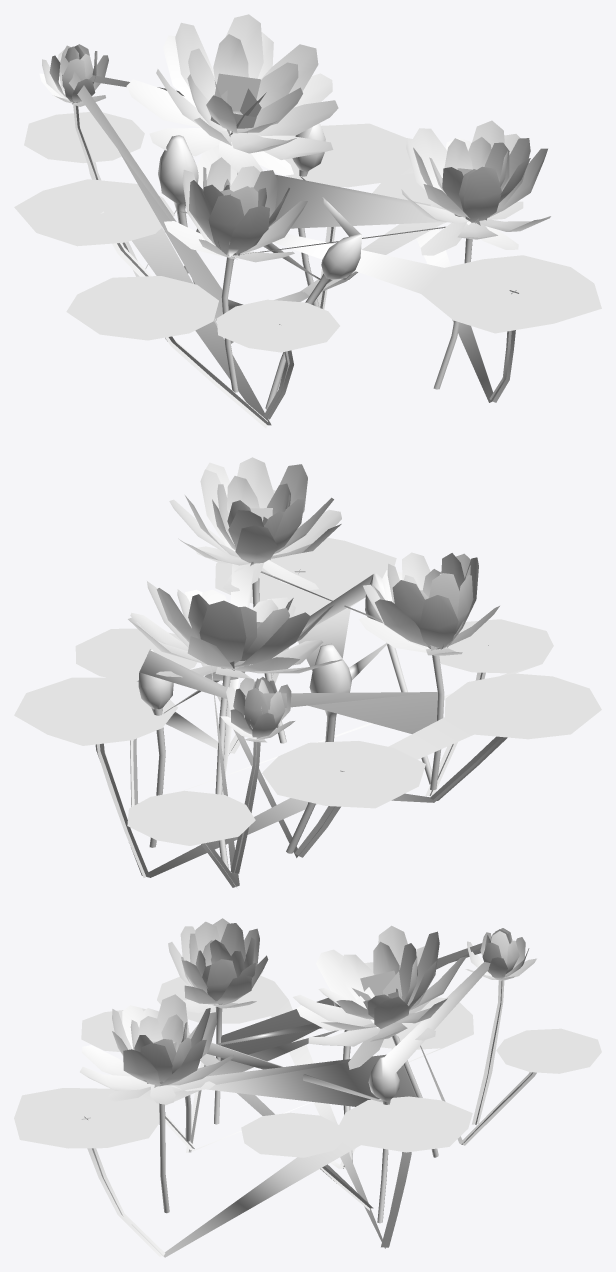
Rendered from lotus.glb.
3 renders of one model, top to bottom at view 1: azimuth 30°, elevation 25°; view 2: azimuth 150°, elevation 25°; view 3: azimuth 270°, elevation 25°, orthographic. The views are drawn at different scales.
Parts seen in each view (by area): view 1: node_id240; view 2: node_id240; view 3: node_id240.
Boxes of the visible parts, x1,y1,x2,y2 form: node_id240: [14, 14, 601, 428]; node_id240: [14, 457, 601, 888]; node_id240: [14, 918, 601, 1257].
Bounding box in the file's own units: 0.512 × 0.3455 × 0.6778.
14 materials, 14 textured.
